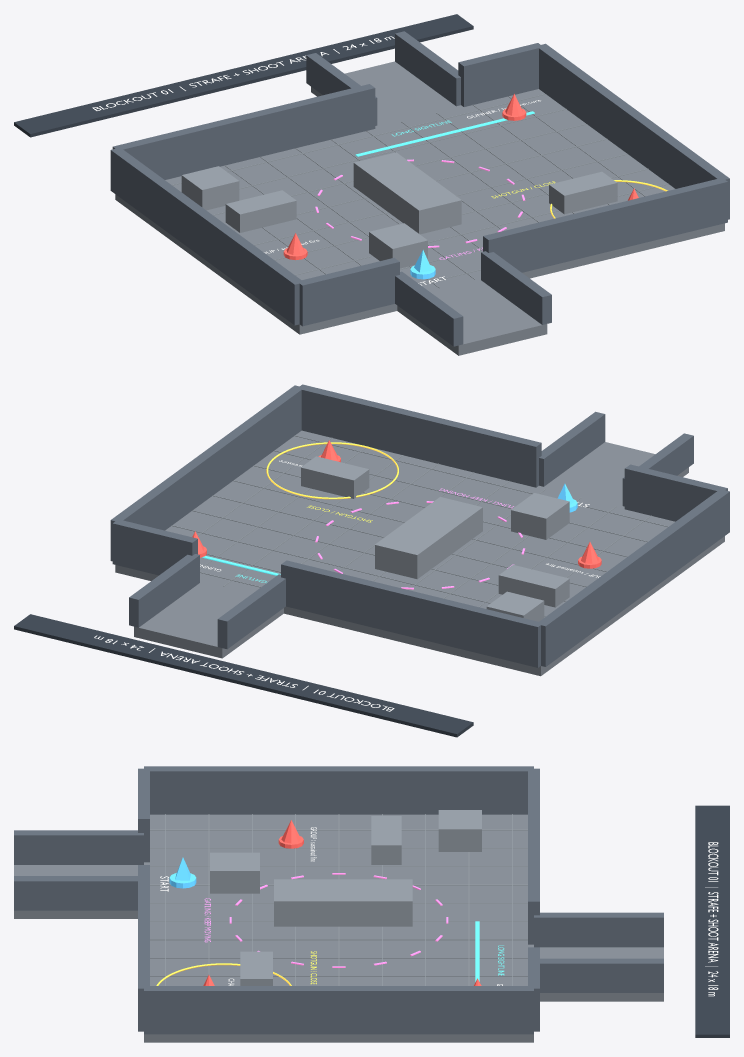
The model's file is isometric_shooter_blockout.glb.
3 renders of one model, top to bottom at view 1: azimuth 30°, elevation 25°; view 2: azimuth 150°, elevation 25°; view 3: azimuth 270°, elevation 25°, orthographic. The views are drawn at different scales.
Parts seen in each view (by area): view 1: main combat room floor (24 x 18 m), north-west wall, south-east wall, west wall, east wall, title backing, central long cover, entry corridor floor, south-west wall, north-east wall, exit corridor floor, entry right cheek (+9 smaller); view 2: main combat room floor (24 x 18 m), north-west wall, south-east wall, west wall, title backing, east wall, central long cover, exit corridor floor, south-west wall, entry corridor floor, north-east wall, exit right cheek (+9 smaller); view 3: main combat room floor (24 x 18 m), east wall, west wall, title backing, central long cover, exit left cheek, entry left cheek, entry right cheek, exit right cheek, exit corridor floor, entry corridor floor, south offset cover (+10 smaller).
Part boxes in pixels (box(x1,y1,x2,y2)): main combat room floor (24 x 18 m): box(115, 89, 724, 334); north-west wall: box(112, 84, 375, 179); south-east wall: box(483, 177, 727, 272); west wall: box(110, 147, 303, 325); east wall: box(536, 43, 729, 219); title backing: box(14, 14, 473, 137); central long cover: box(353, 152, 461, 234); entry corridor floor: box(397, 280, 547, 355); south-west wall: box(299, 257, 399, 326); north-east wall: box(458, 43, 541, 106); exit corridor floor: box(311, 61, 455, 125); entry right cheek: box(481, 251, 551, 324); main combat room floor (24 x 18 m): box(115, 430, 724, 676); north-west wall: box(281, 560, 543, 667); south-east wall: box(298, 384, 541, 487); west wall: box(538, 489, 729, 666); title backing: box(14, 614, 473, 737); east wall: box(110, 385, 303, 561); central long cover: box(375, 497, 482, 579); exit corridor floor: box(134, 583, 283, 658); south-west wall: box(624, 464, 727, 521); entry corridor floor: box(544, 442, 688, 505); north-east wall: box(112, 520, 197, 575); exit right cheek: box(129, 554, 199, 627); main combat room floor (24 x 18 m): box(144, 814, 533, 1042); east wall: box(144, 986, 533, 1034); west wall: box(144, 766, 533, 814); title backing: box(695, 805, 729, 1037); central long cover: box(274, 879, 412, 926); exit left cheek: box(534, 912, 663, 947); entry left cheek: box(14, 830, 143, 864); entry right cheek: box(14, 876, 137, 910); exit right cheek: box(540, 958, 663, 992); exit corridor floor: box(540, 947, 663, 1001); entry corridor floor: box(14, 865, 137, 918); south offset cover: box(210, 852, 259, 893).
Size of the model in its own units: 25 by 2.76 by 33.05.
